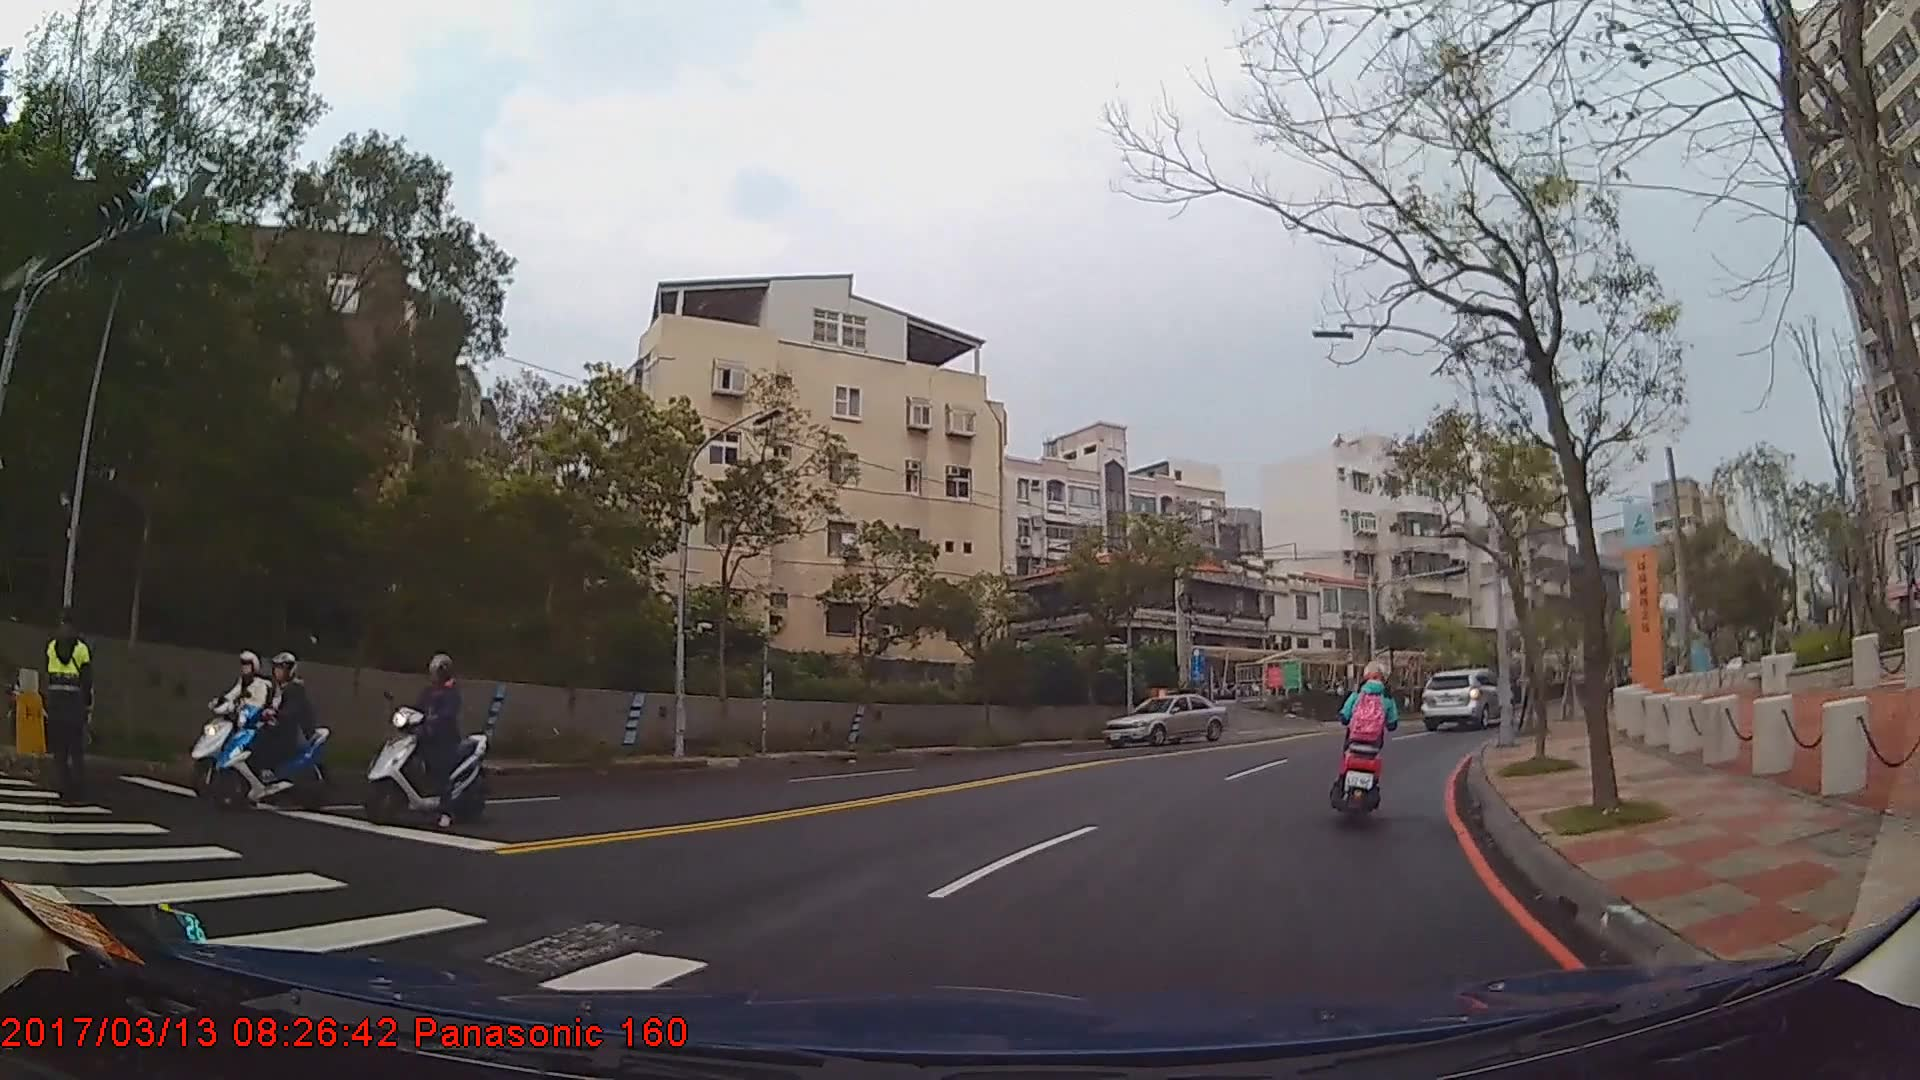pedestrian: (43, 609, 101, 808)
rider: (360, 656, 488, 834), (222, 652, 322, 806), (195, 652, 289, 794), (1333, 663, 1398, 812)
vehicle: (1098, 691, 1226, 749), (1419, 665, 1514, 728)
